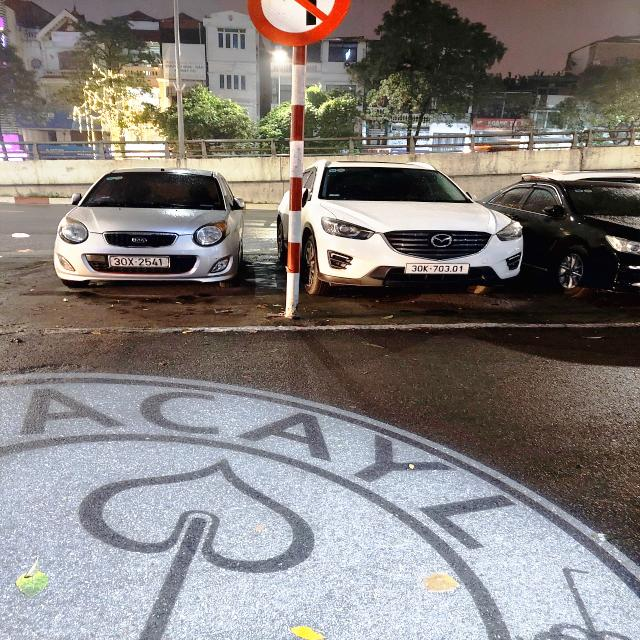license_plate: (107, 255, 173, 270), (404, 263, 474, 277)
